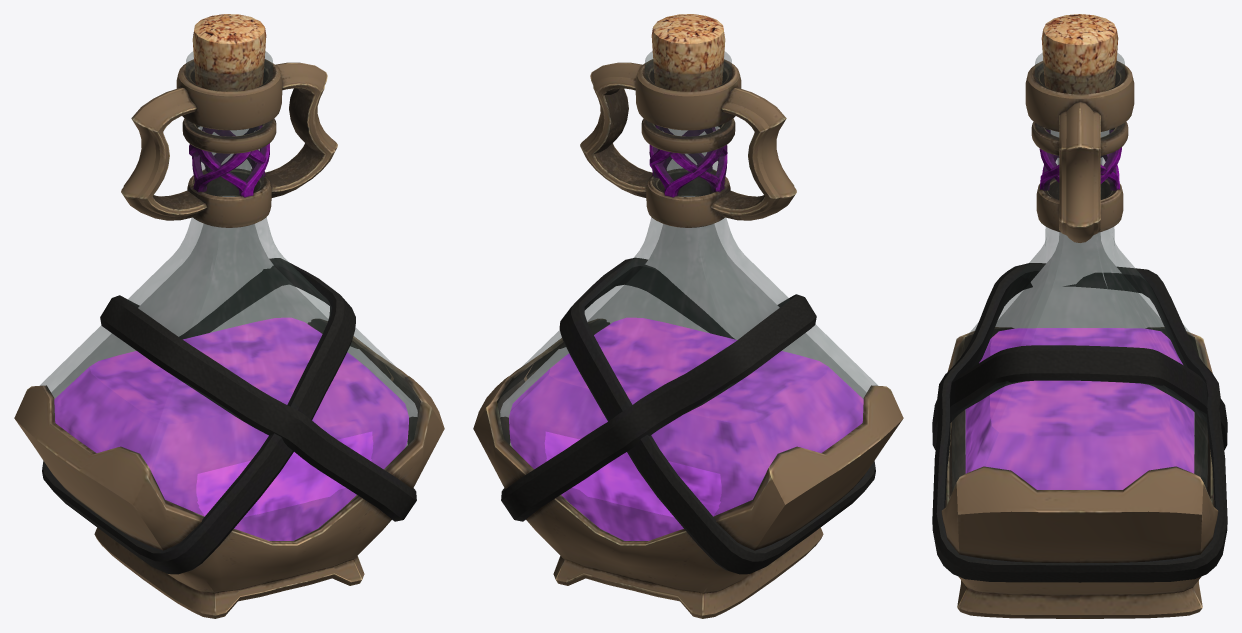
The model's file is strength_poison.glb.
3 renders of one model, left to right at view 1: azimuth 30°, elevation 25°; view 2: azimuth 150°, elevation 25°; view 3: azimuth 270°, elevation 25°, orthographic. The views are drawn at different scales.
Visible parts, largest first — view 1: Potion3; view 2: Potion3; view 3: Potion3.
Part boxes in pixels (x1,y1,x2,y2): Potion3: (14,14,444,618); Potion3: (473,14,903,618); Potion3: (932,14,1227,618).
Size of the model in its own units: 30.03 by 44.38 by 21.57.
Materials: 1 (1 with a texture image).
